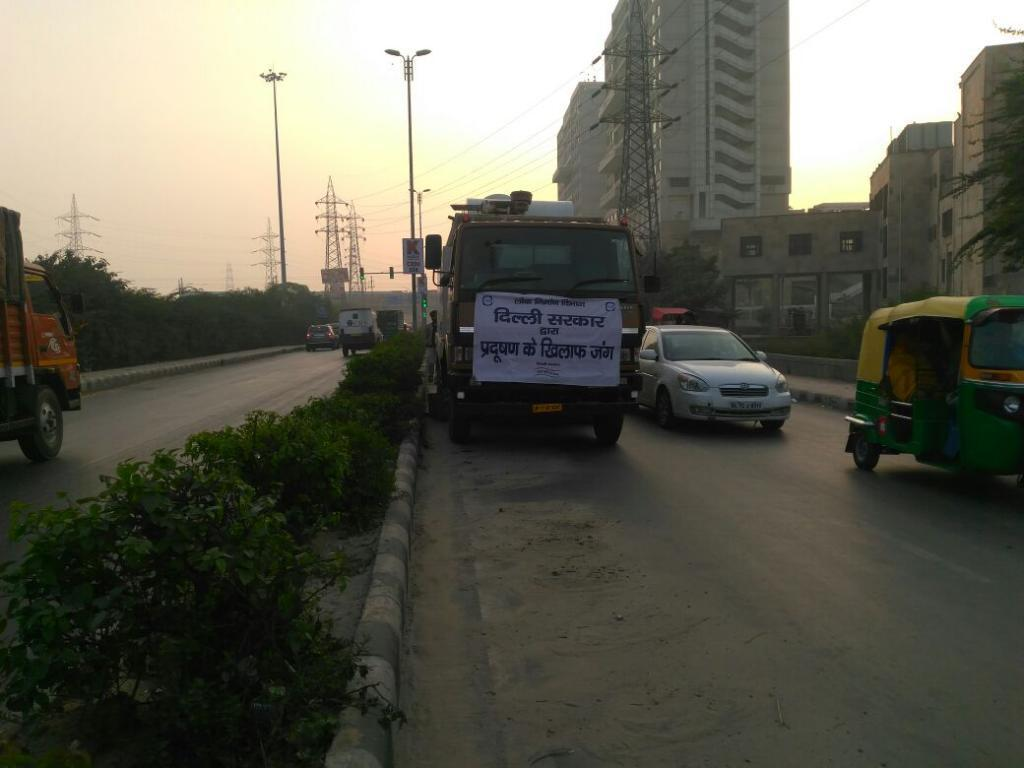car: (436, 196, 644, 455), (843, 294, 1024, 488), (0, 204, 90, 472), (638, 320, 796, 439), (331, 305, 389, 356), (302, 320, 336, 356), (375, 308, 412, 337)
streetPlate: (584, 3, 682, 250), (389, 43, 428, 348), (255, 66, 303, 302), (311, 171, 351, 303)
